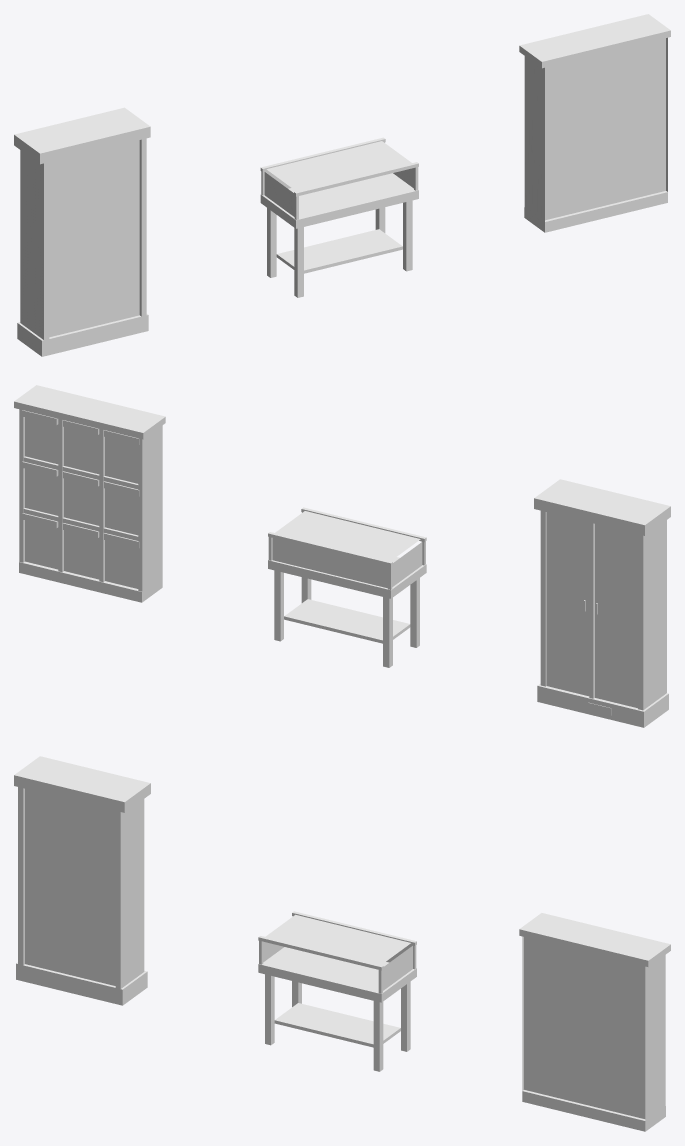
Rendered from props_trophy_cases.glb.
The picture shows the model from 3 angles, top to bottom: view 1: azimuth 30°, elevation 25°; view 2: azimuth 150°, elevation 25°; view 3: azimuth 330°, elevation 25°; orthographic projection.
Parts seen in each view (by area): view 1: TROPHY_Case_pared, TROPHY_Case_nichos, TROPHY_Case_mesa; view 2: TROPHY_Case_pared, TROPHY_Case_nichos, TROPHY_Case_mesa; view 3: TROPHY_Case_pared, TROPHY_Case_nichos, TROPHY_Case_mesa.
Boxes of the visible parts, x1,y1,x2,y2 form: TROPHY_Case_pared: [14, 107, 150, 356]; TROPHY_Case_nichos: [519, 14, 670, 232]; TROPHY_Case_mesa: [260, 137, 418, 297]; TROPHY_Case_pared: [534, 479, 670, 727]; TROPHY_Case_nichos: [14, 385, 165, 602]; TROPHY_Case_mesa: [268, 507, 426, 667]; TROPHY_Case_pared: [14, 756, 150, 1005]; TROPHY_Case_nichos: [519, 913, 670, 1131]; TROPHY_Case_mesa: [258, 911, 416, 1071].
Size of what is drawn, in the model's own units: 6.17 by 1.9 by 0.6.
1 material, 1 textured.
